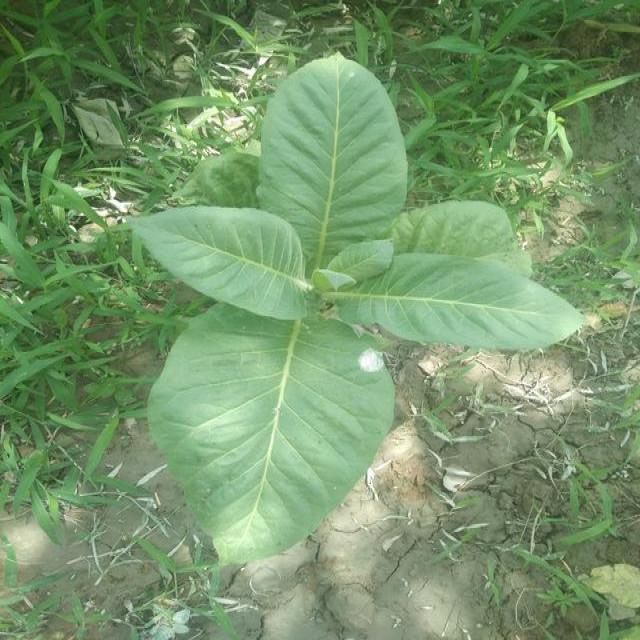crop: (126, 40, 585, 568)
